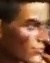kevin: (5, 0, 49, 62)
